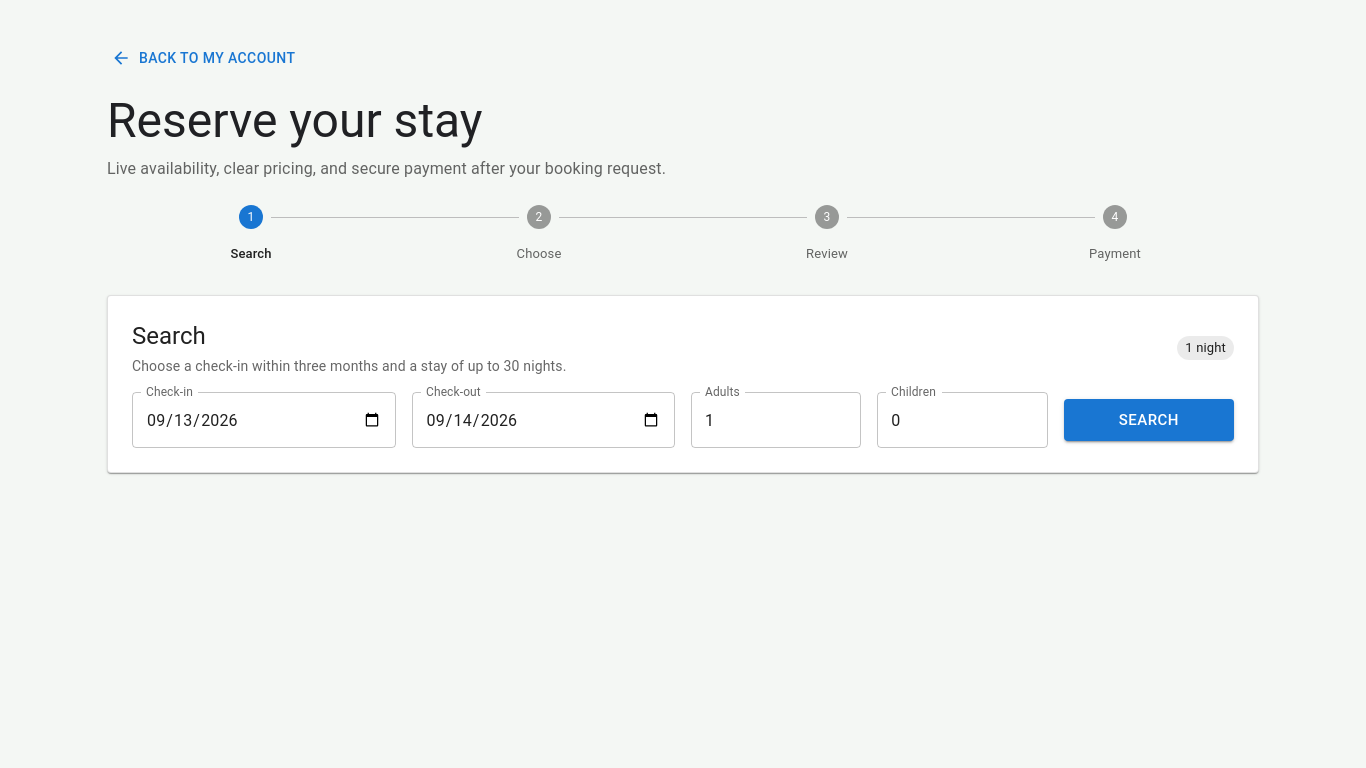
PortalBookingPage complimentary nights › asks the guest to confirm a free stay instead of sending them to payment
The image size is (1366, 768).
Click the button "Search": click(1149, 420) [1064,399,1234,441]
(page scrolled)
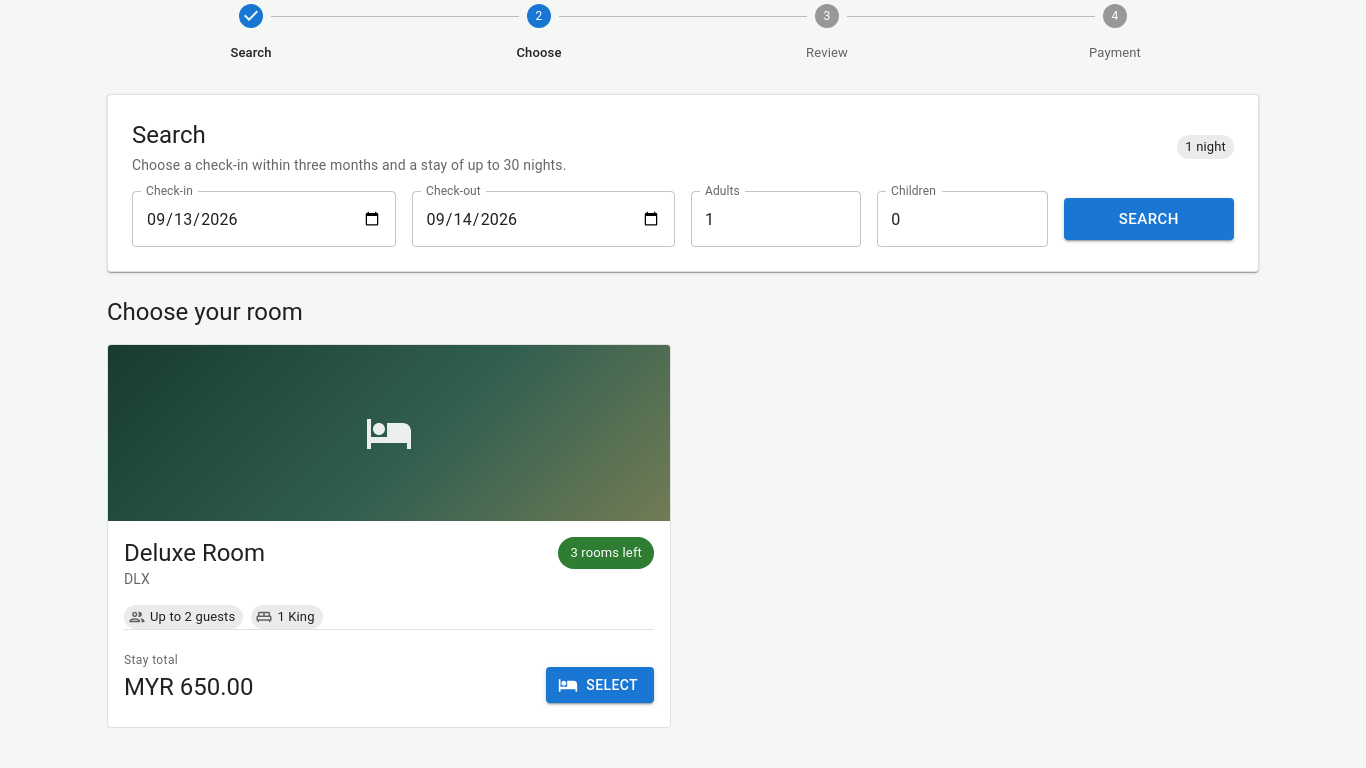
Click the button "Select": click(600, 685) [546,667,654,703]
(page scrolled)
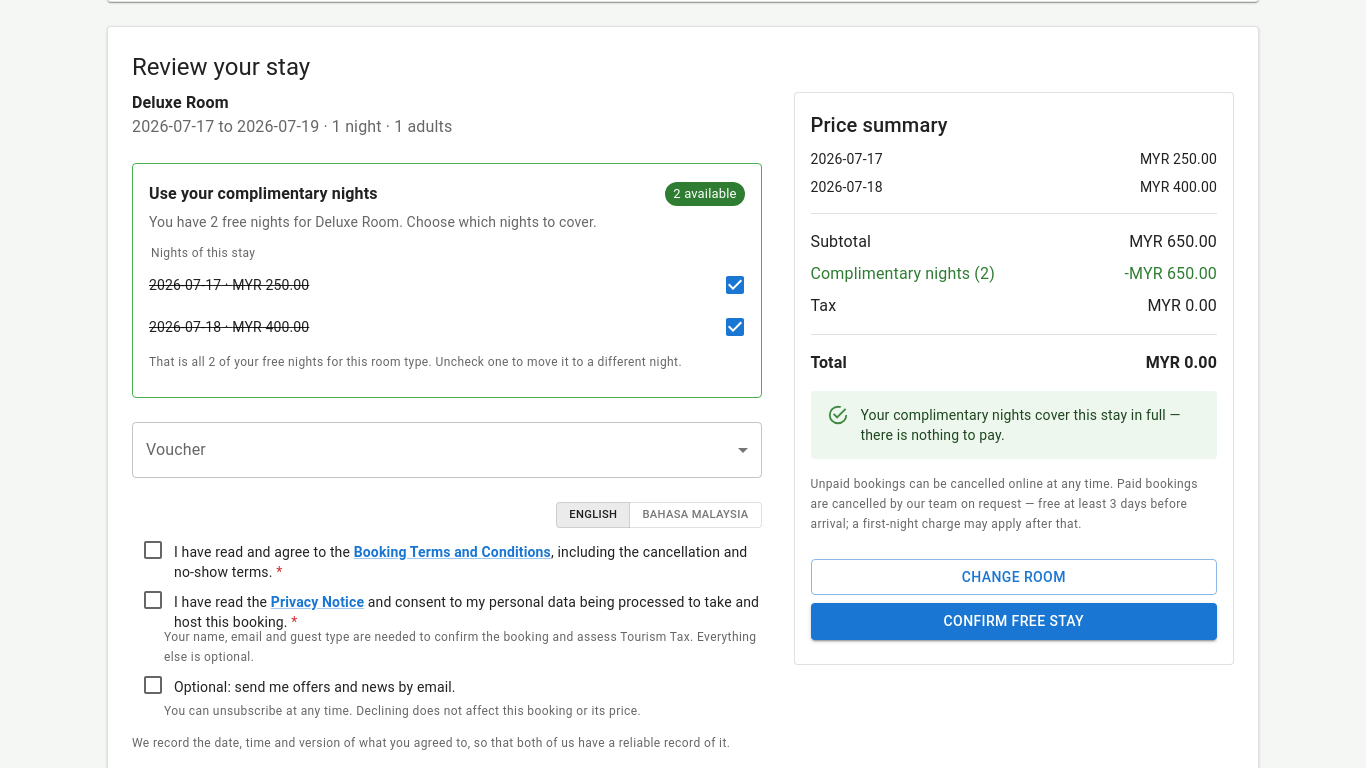
Now the heading "Review your stay" is shown, box [132,53,310,81]
Now the button "Confirm free stay" is shown, box [810,603,1217,640]
Now the text "Your complimentary nights cover this stay in full — there is nothing to pay." is shown, box [860,397,1201,453]
